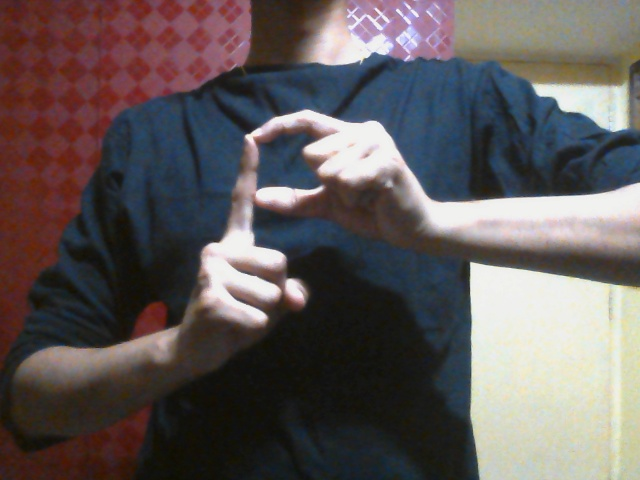P: (181, 109, 418, 351)
